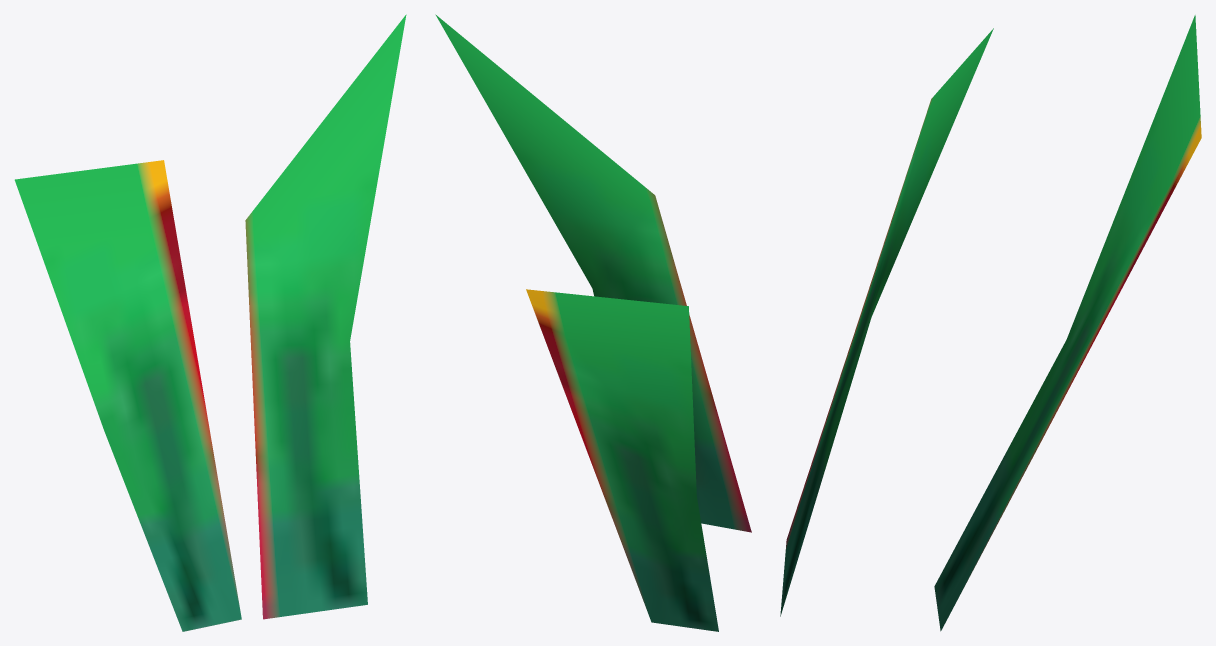
Rendered from fg_grassC.dae.
3 renders of one model, left to right at view 1: azimuth 30°, elevation 25°; view 2: azimuth 150°, elevation 25°; view 3: azimuth 270°, elevation 25°, orthographic. The views are drawn at different scales.
Parts seen in each view (by area): view 1: fg_grassC; view 2: fg_grassC; view 3: fg_grassC.
Part boxes in pixels (<box>): fg_grassC: <box>14,14,406,631</box>; fg_grassC: <box>435,14,751,631</box>; fg_grassC: <box>780,15,1201,631</box>.
Bounding box in the file's own units: 14.53 × 23.97 × 12.64.
1 material, 1 textured.
